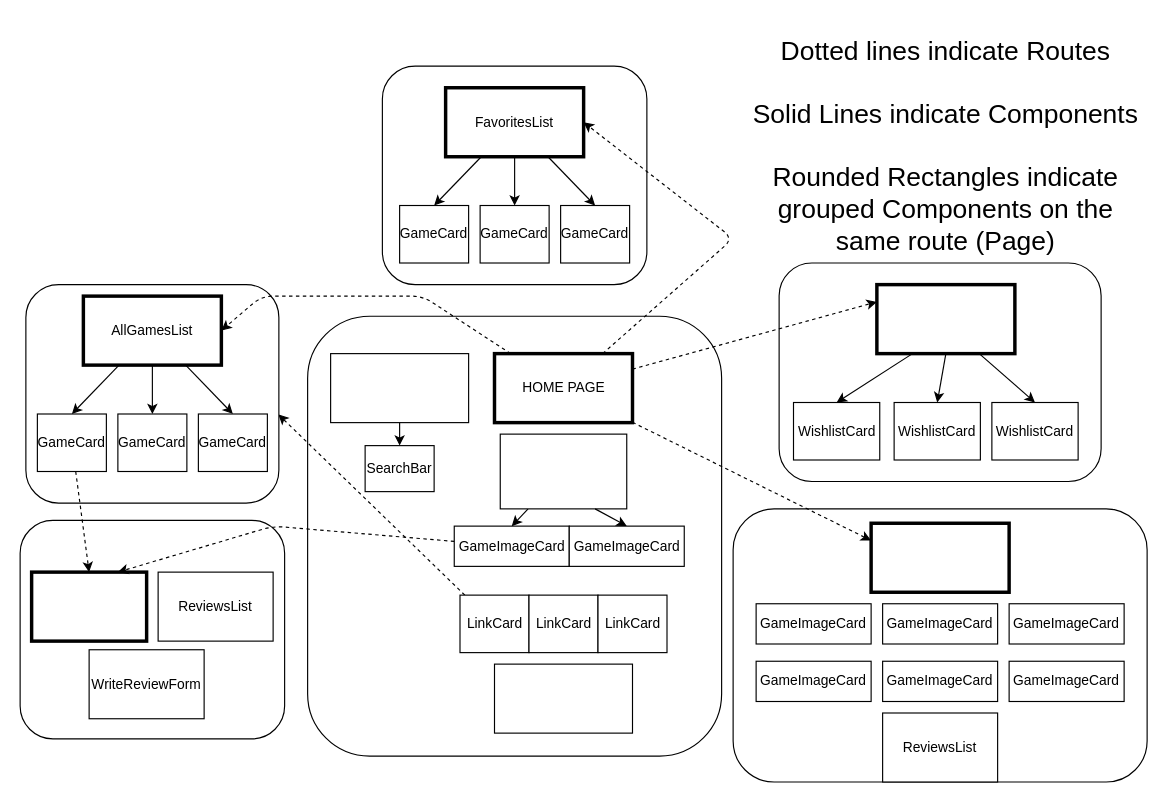
Some shapes in this 1167 by 802 pixel diagram are drawn without their labels. Each missing label, with the centre of its shape:
"GameImageList" goes at (563,471).
"IndividualGame" goes at (88,606).
"NavBar (Outlet in all routes)" goes at (399,387).
"PopularReviewsList" goes at (562,698).
"UserProfile" goes at (939,557).
"Wishlist" goes at (945,318).
